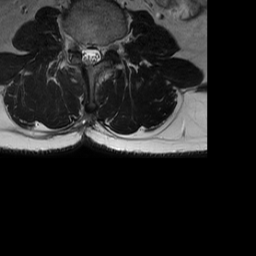CCS_normal: (87, 39, 93, 73)
LFS_normal: (101, 36, 109, 61)
LLS_normal: (93, 37, 101, 67)
RFS_normal: (71, 31, 80, 57)
RLS_normal: (80, 37, 87, 68)
